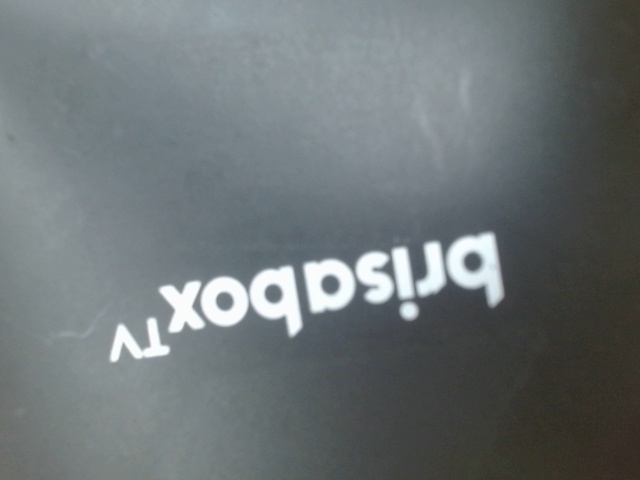AH_brisabox: (83, 225, 510, 373)
